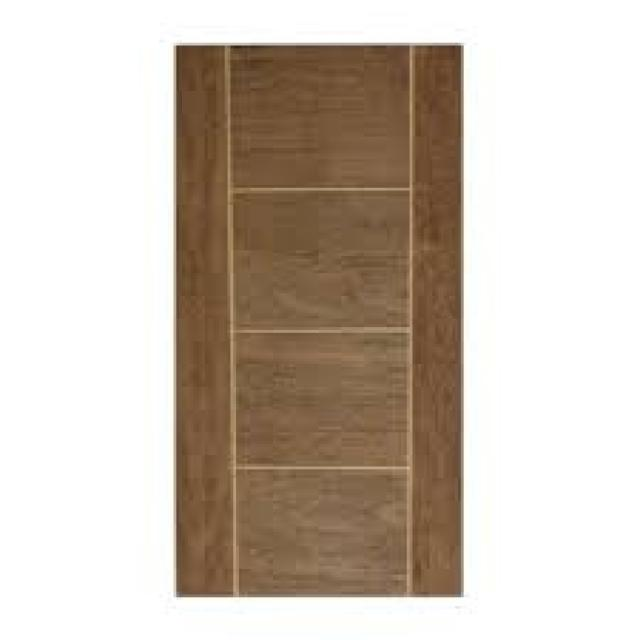door: (175, 43, 465, 597)
